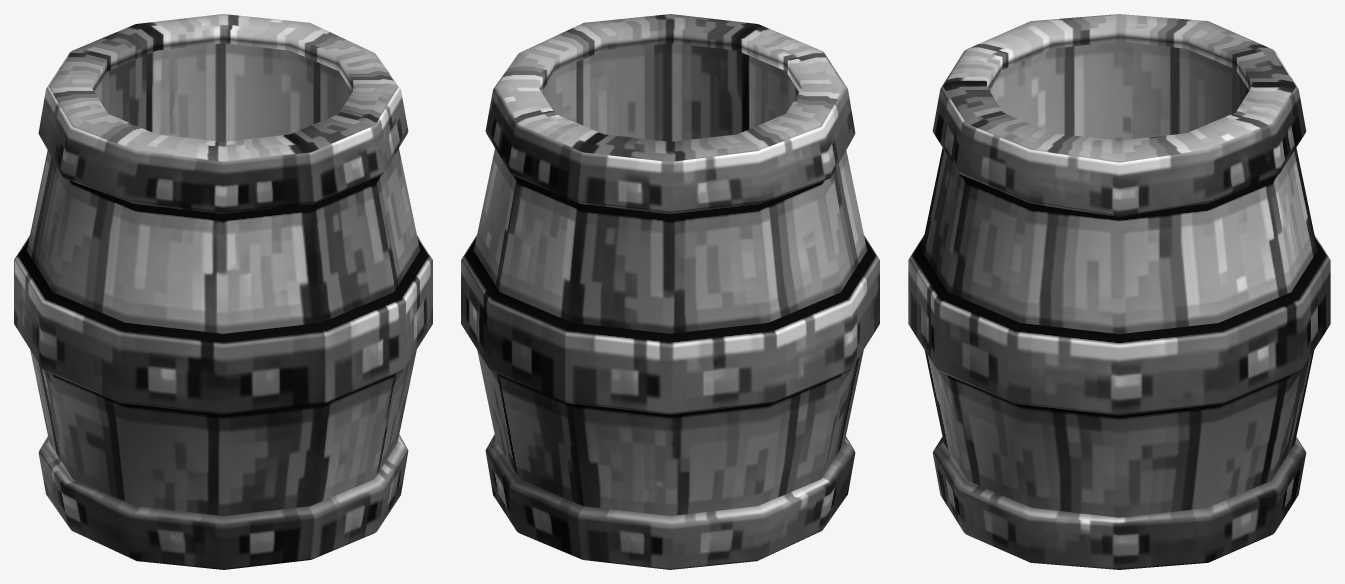
File: 3D_Barrel.fbx
The picture shows the model from 3 angles, left to right: view 1: azimuth 30°, elevation 25°; view 2: azimuth 150°, elevation 25°; view 3: azimuth 270°, elevation 25°; orthographic projection.
Parts seen in each view (by area): view 1: Box_Barrel_PixelArt_03; view 2: Box_Barrel_PixelArt_03; view 3: Box_Barrel_PixelArt_03.
Boxes of the visible parts, bbox=[...] form: Box_Barrel_PixelArt_03: bbox=[14, 14, 432, 569]; Box_Barrel_PixelArt_03: bbox=[461, 14, 879, 569]; Box_Barrel_PixelArt_03: bbox=[908, 14, 1330, 569].
Size of the model in its own units: 0.9554 by 1.04 by 0.9554.
